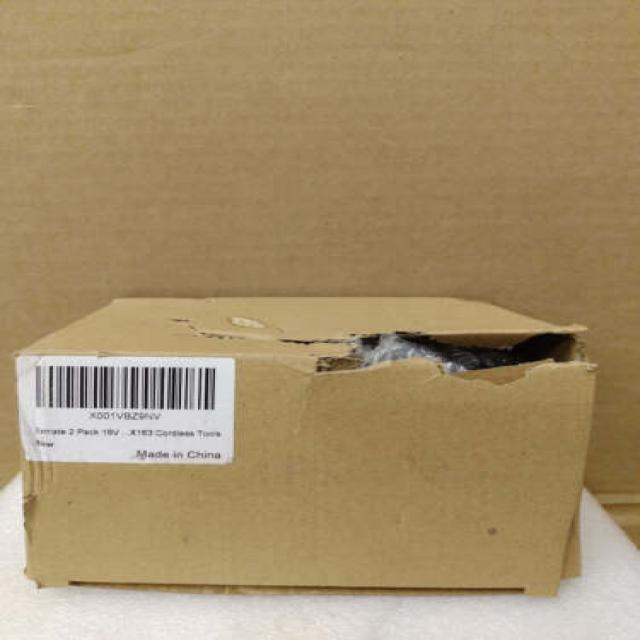damaged: (288, 326, 588, 401)
